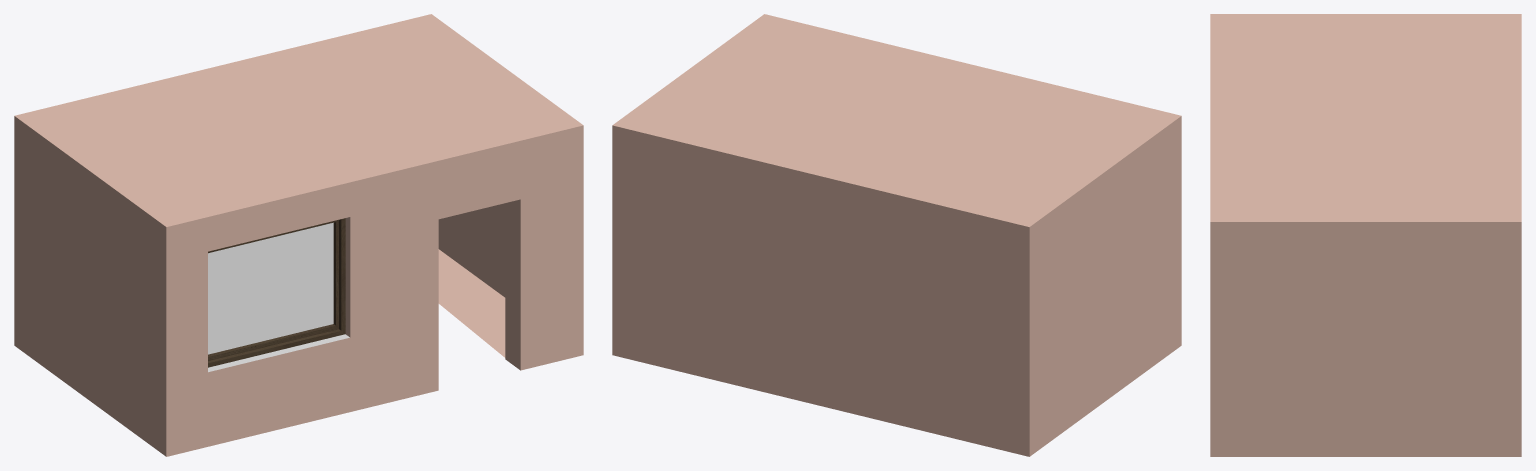
Rendered from Building_07_Door.fbx.
3 renders of one model, left to right at view 1: azimuth 30°, elevation 25°; view 2: azimuth 150°, elevation 25°; view 3: azimuth 270°, elevation 25°, orthographic. The views are drawn at different scales.
Parts seen in each view (by area): view 1: Building_07_Door; view 2: Building_07_Door; view 3: Building_07_Door.
Part boxes in pixels (x1=…): Building_07_Door: x1=14, y1=14, x2=583, y2=456; Building_07_Door: x1=612, y1=14, x2=1181, y2=456; Building_07_Door: x1=1210, y1=14, x2=1521, y2=456.
Bounding box in the file's own units: 5.7 × 3 × 3.6.
